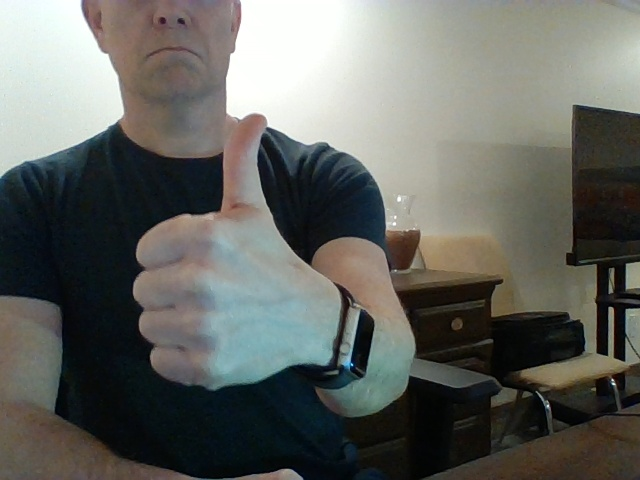ThumbsUp: (133, 113, 306, 391)
